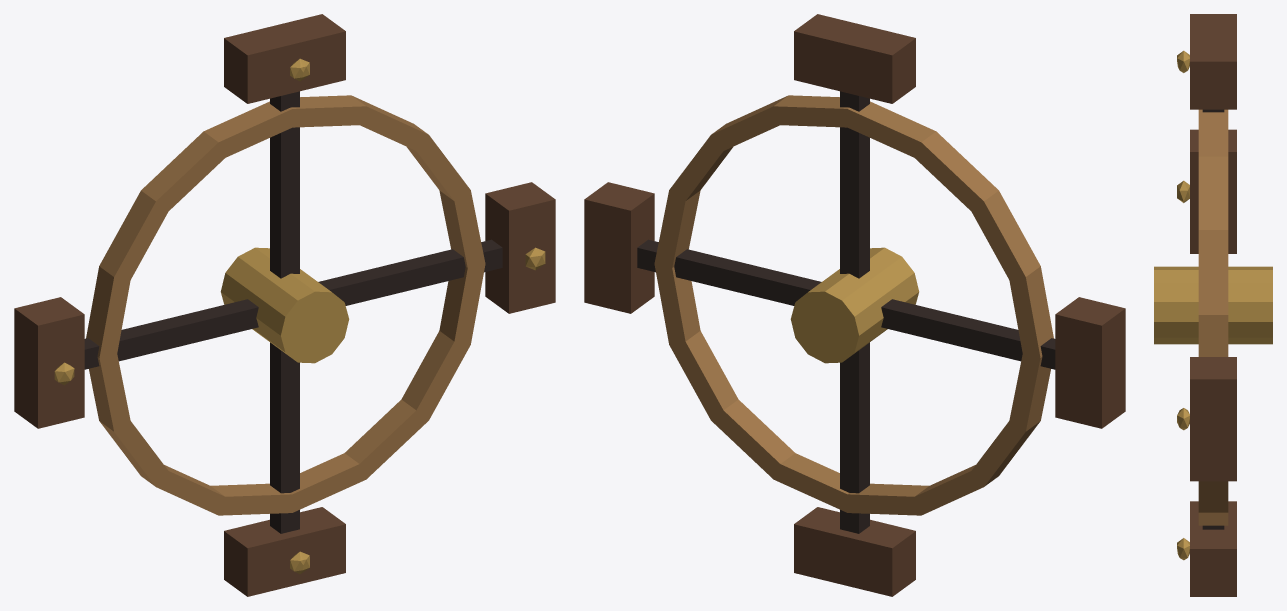
The model's file is PirateCove_TidewheelRotor_Standard.glb.
3 views of the same model, side by side, from view 1: azimuth 30°, elevation 25°; view 2: azimuth 150°, elevation 25°; view 3: azimuth 270°, elevation 25° (orthographic).
Parts seen in each view (by area): view 1: PirateCove_TidewheelRotor_Standard; view 2: PirateCove_TidewheelRotor_Standard; view 3: PirateCove_TidewheelRotor_Standard.
Part boxes in pixels (bbox=[...]): PirateCove_TidewheelRotor_Standard: bbox=[14, 14, 555, 596]; PirateCove_TidewheelRotor_Standard: bbox=[584, 14, 1125, 596]; PirateCove_TidewheelRotor_Standard: bbox=[1154, 14, 1272, 596].
Size of the model in its own units: 3.78 by 3.78 by 0.76.
